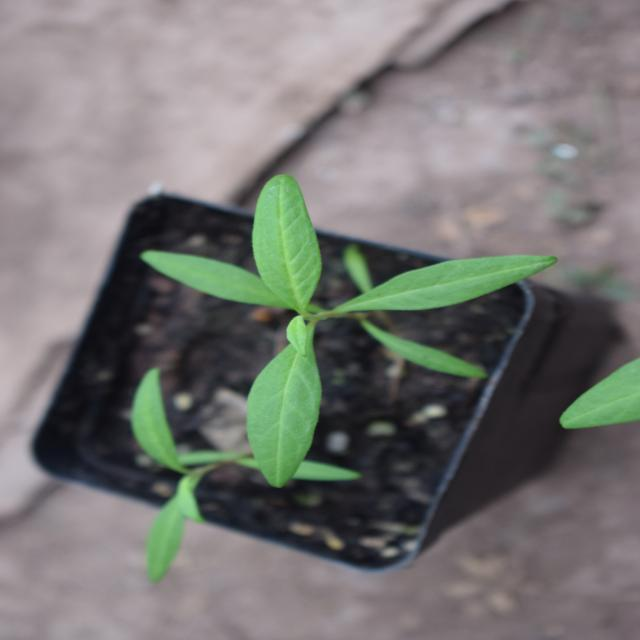white_smart_weed: (153, 188, 507, 546)
